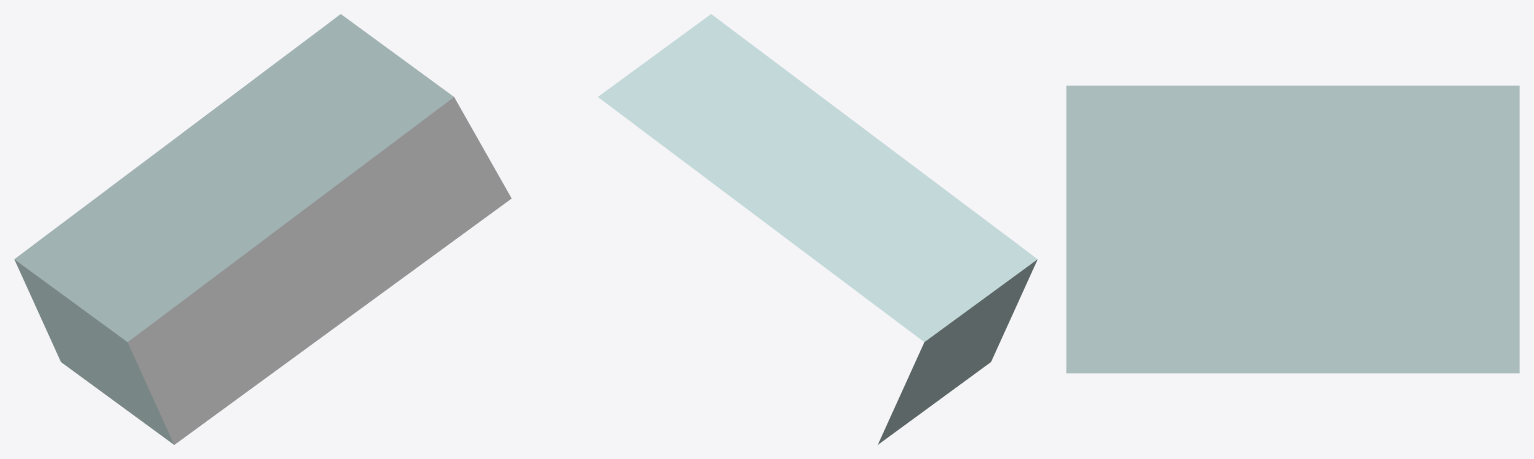
The picture shows the model from 3 angles, left to right: view 1: azimuth 30°, elevation 25°; view 2: azimuth 150°, elevation 25°; view 3: azimuth 270°, elevation 25°; orthographic projection. The views are drawn at different scales.
Visible parts, largest first — view 1: 0_1_1_2_3_2_1_1_1; view 2: 0_1_1_2_3_2_1_1_1; view 3: 0_1_1_2_3_2_1_1_1.
Part boxes in pixels (x1,y1,x2,y2): 0_1_1_2_3_2_1_1_1: (14, 14, 511, 444); 0_1_1_2_3_2_1_1_1: (598, 14, 1037, 444); 0_1_1_2_3_2_1_1_1: (1066, 85, 1519, 373).
Bounding box in the file's own units: 5.87 × 4.08 × 3.
